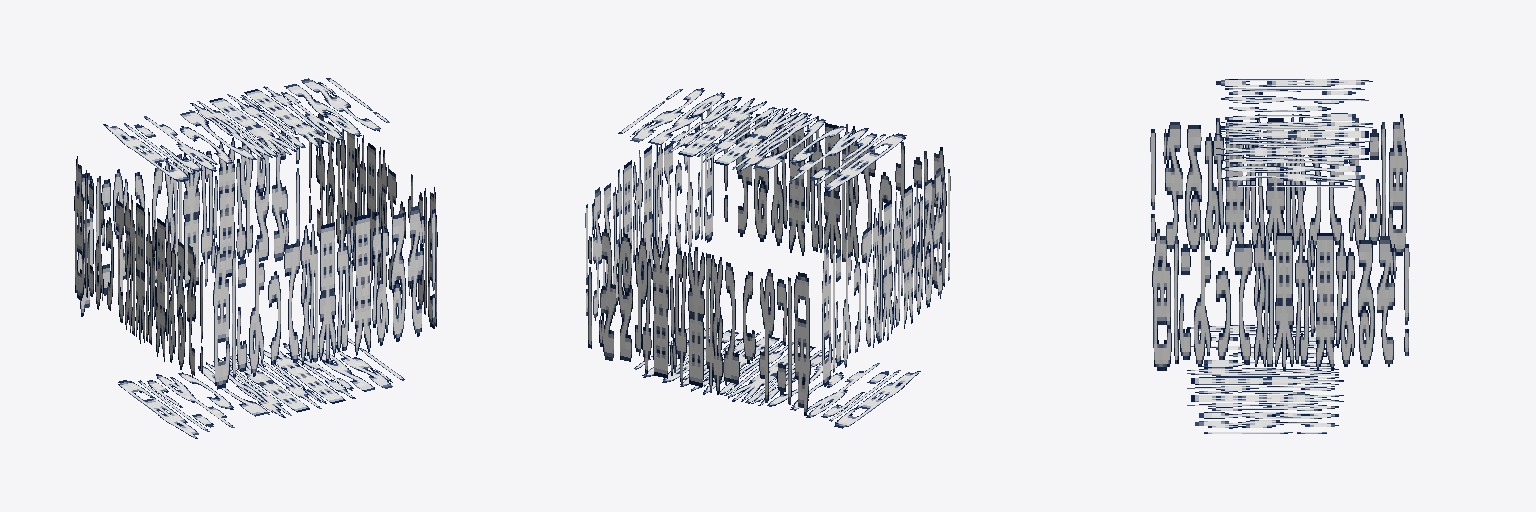
3 renders of one model, left to right at view 1: azimuth 30°, elevation 25°; view 2: azimuth 150°, elevation 25°; view 3: azimuth 270°, elevation 25°, orthographic.
Visible parts, largest first — view 1: ColorLogo; view 2: ColorLogo; view 3: ColorLogo.
Part boxes in pixels (x1,y1,x2,y2): ColorLogo: (74, 78, 437, 438); ColorLogo: (585, 88, 950, 428); ColorLogo: (1150, 79, 1409, 433).
Bounding box in the file's own units: 2 × 2 × 2.
Materials: 1 (1 with a texture image).